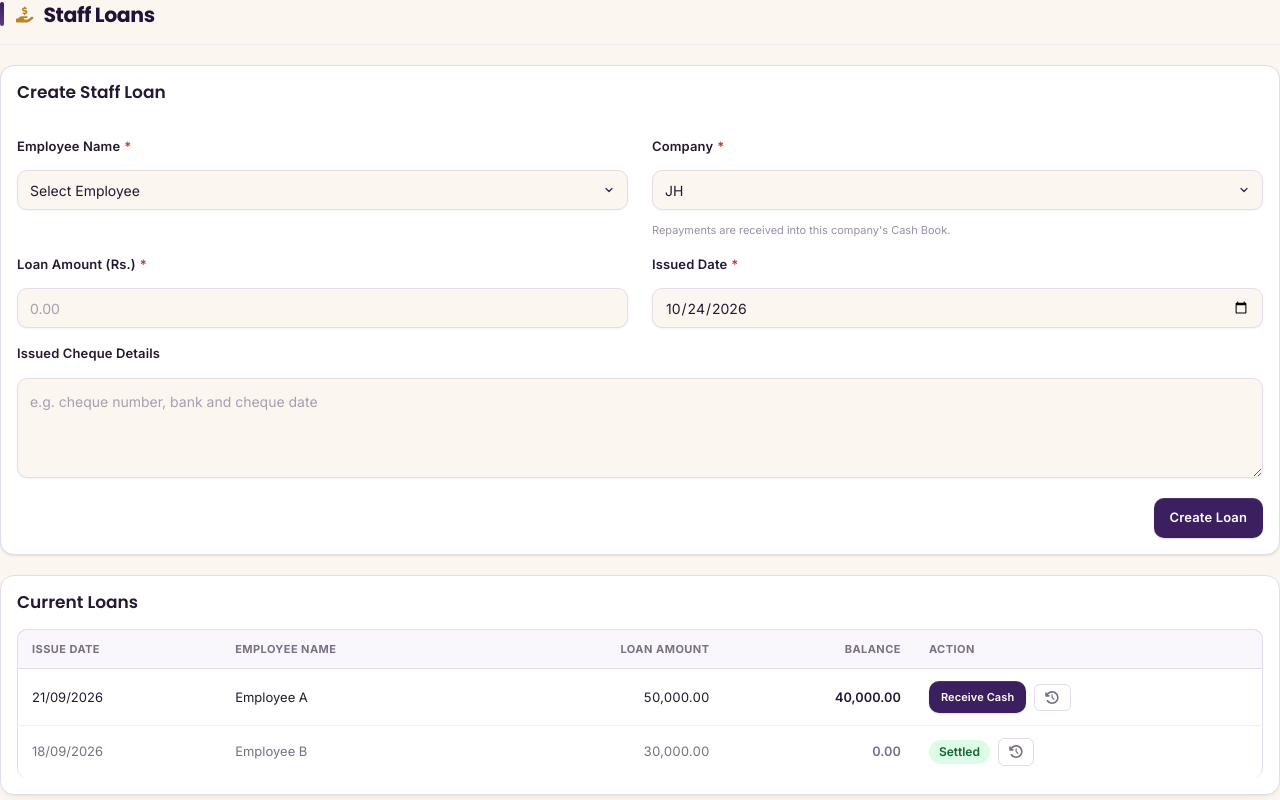
it: StaffLoans page › Receive Cash modal shows employee, loan amount and balance, and rejects amounts above the balance
Click the button "Receive Cash" at {"x": 978, "y": 697}, box [929,681,1026,713]
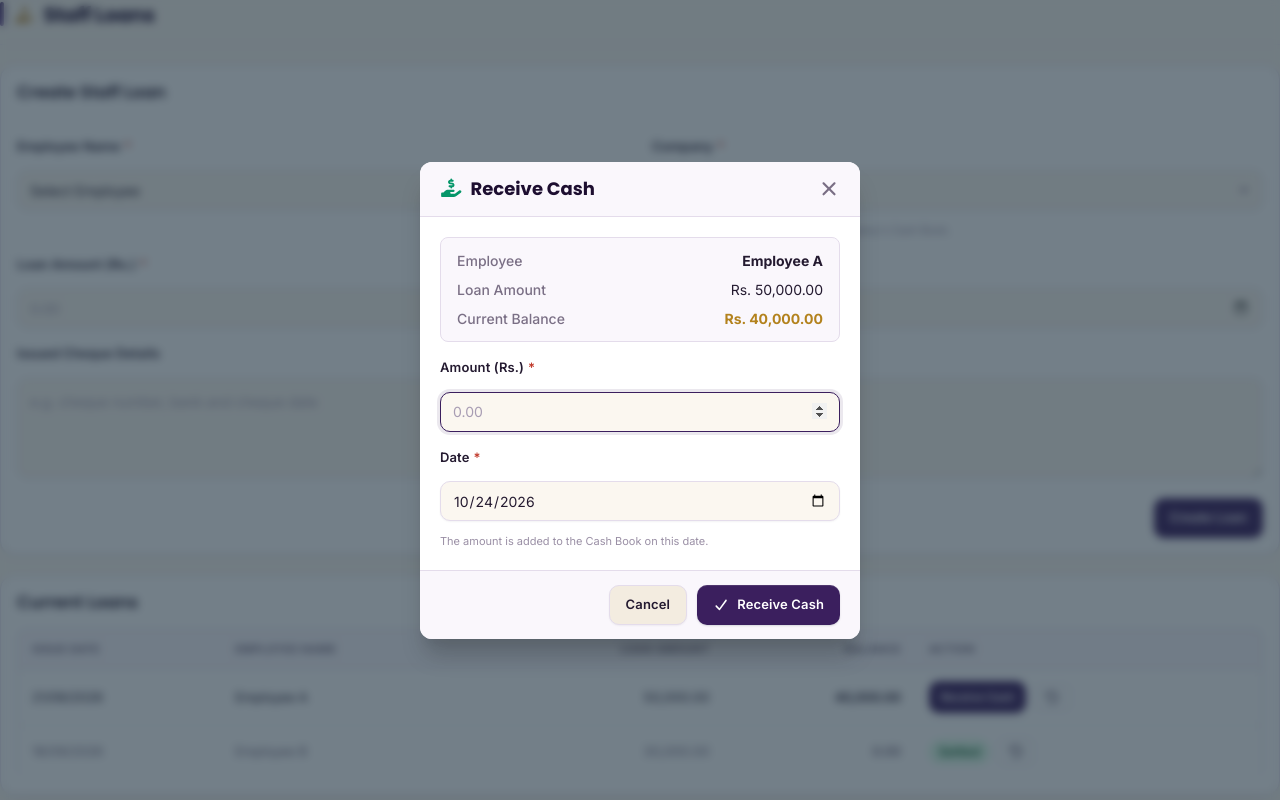
Expected: the text "Employee A" is shown, [742,250,823,271]
Expected: the text "Rs. 50,000.00" is shown, [731,279,823,300]
Expected: the text "Rs. 40,000.00" is shown, [724,308,823,329]
Type "40000.01" into the number field labelled "Amount (Rs.) *" at {"x": 640, "y": 412}, box [440,392,840,432]
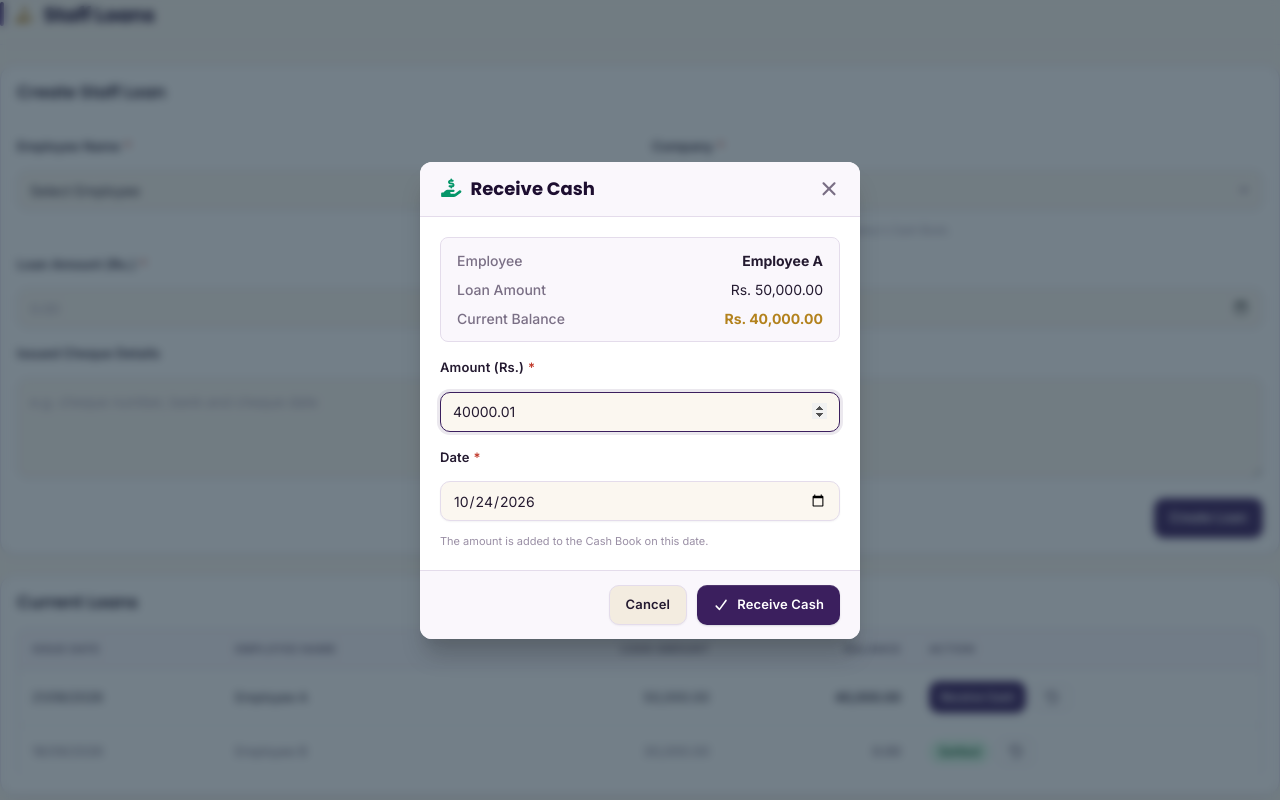
Click the button "Receive Cash" at {"x": 768, "y": 604}, box [697,584,840,624]
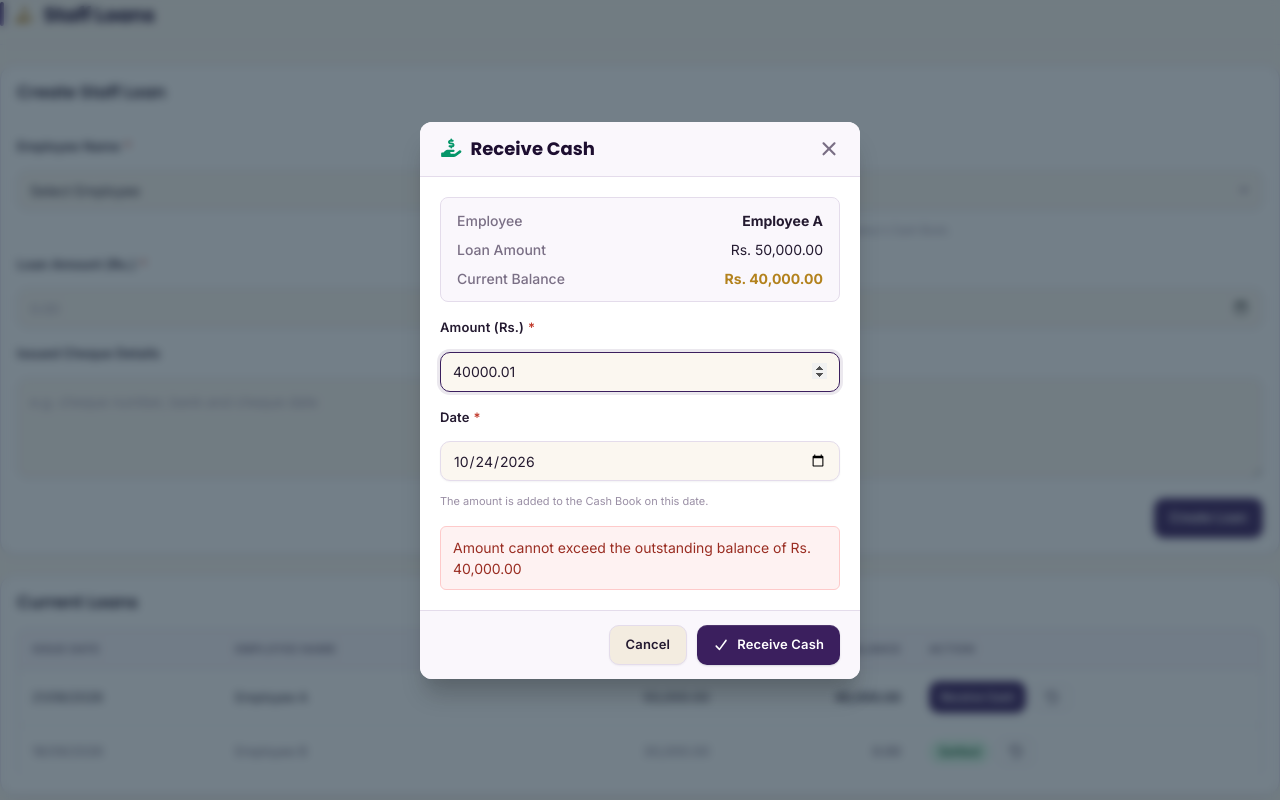
Expected: the message shows "cannot exceed the outstanding balance of Rs. 40,000.00", [453,538,811,576]
Replace the text in the number field labelled "Amount (Rs.) *" with "10000" at {"x": 640, "y": 372}, box [440,352,840,392]
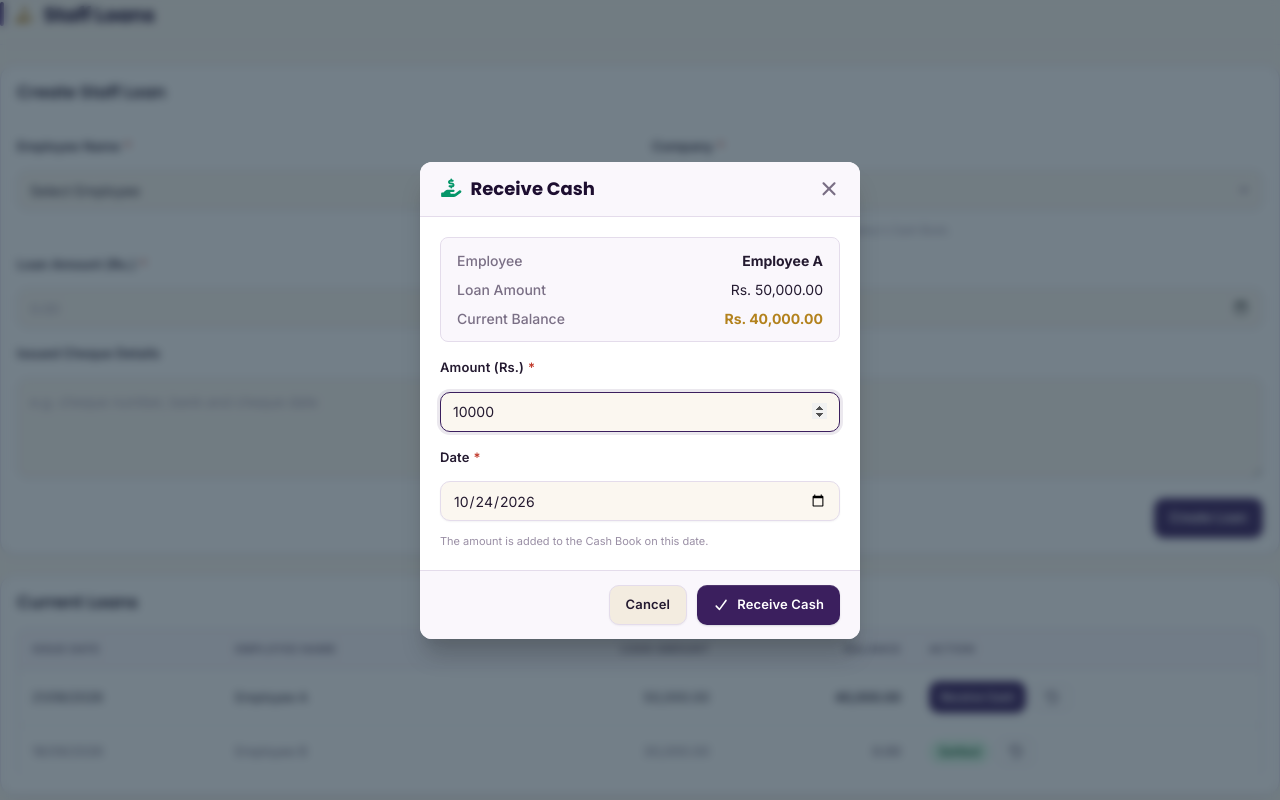
Type "2026-09-21" into the date field labelled "Date *" at {"x": 640, "y": 501}, box [440,481,840,521]
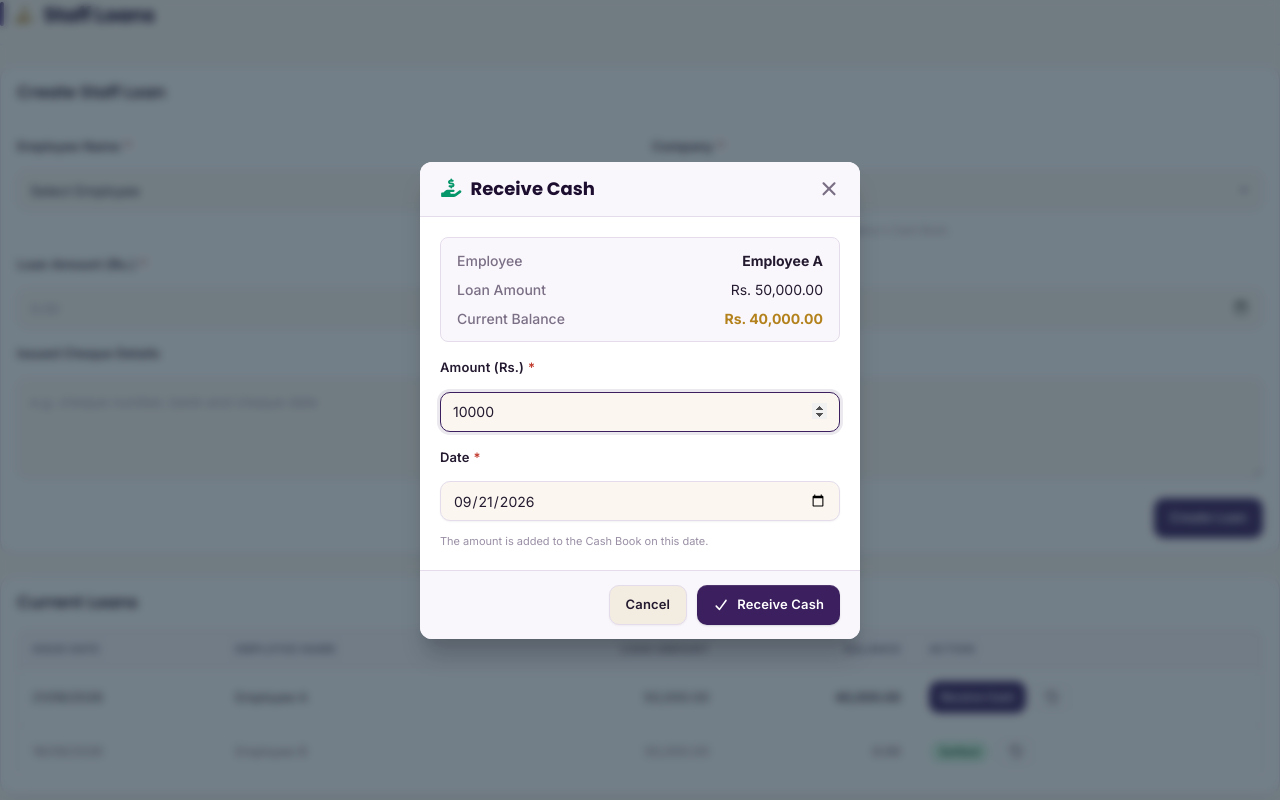
Click the button "Receive Cash" at {"x": 768, "y": 604}, box [697,584,840,624]
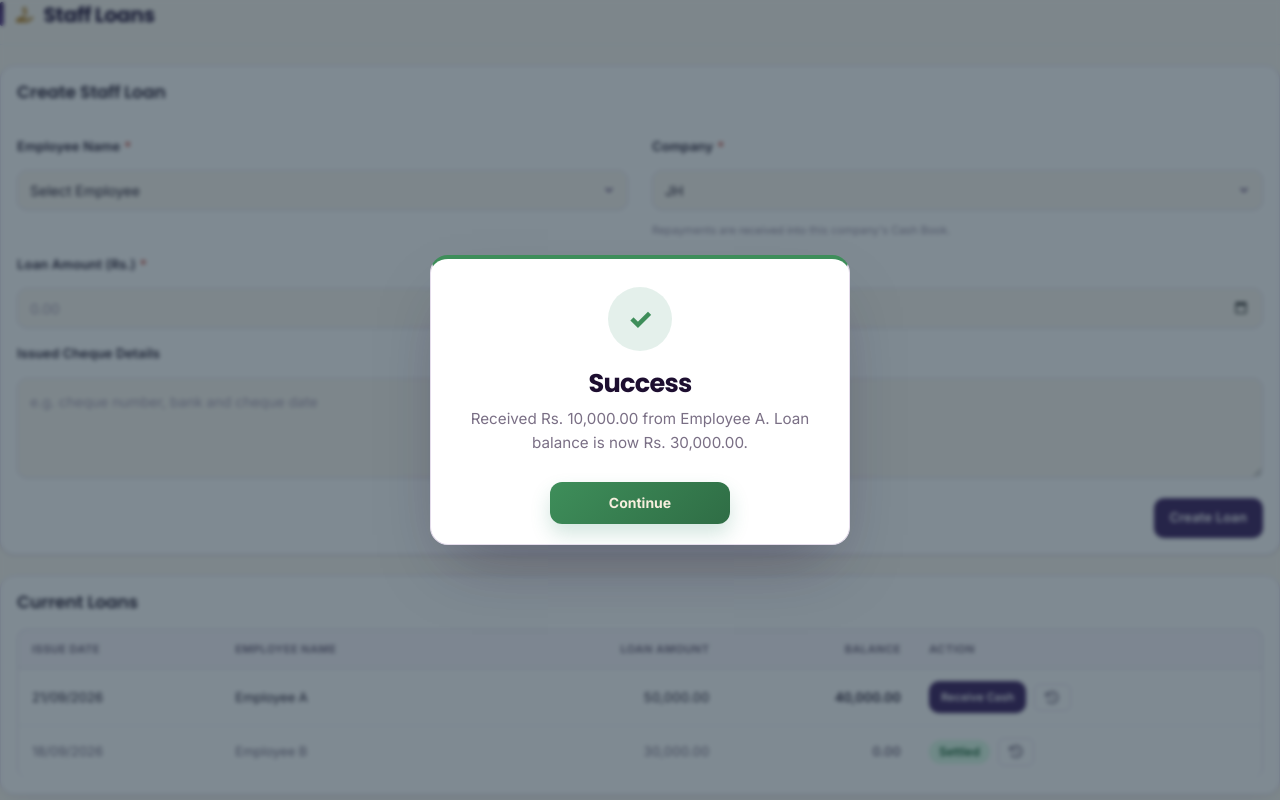
Expected: the heading with id "sl-receive-title" is gone
Expected: the text "Received Rs. 10,000.00 from Employee A. Loan balance is now Rs. 30,000.00." is shown, [455,407,825,456]
